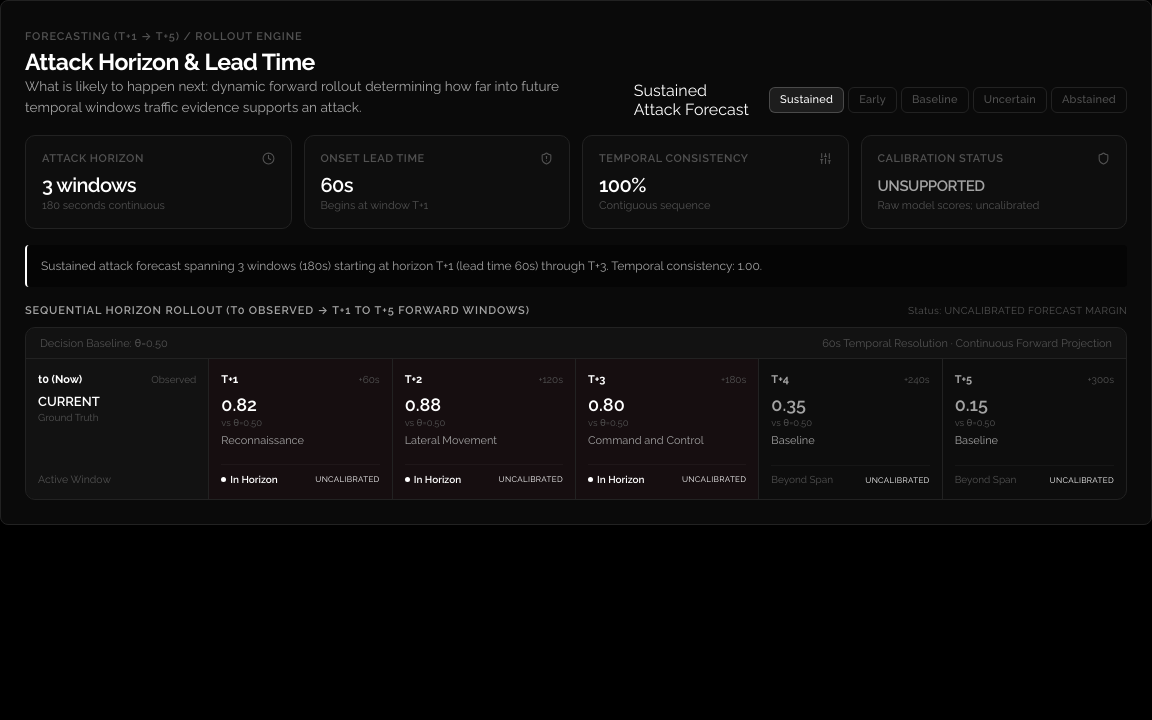
it: AttackHorizonCard › switches deterministically between all 5 states via fixture switcher
The width and height of the screenshot is (1152, 720).
# Switch to Early Signal
Click the button "Early" at (873, 100), box [848,88,897,113]
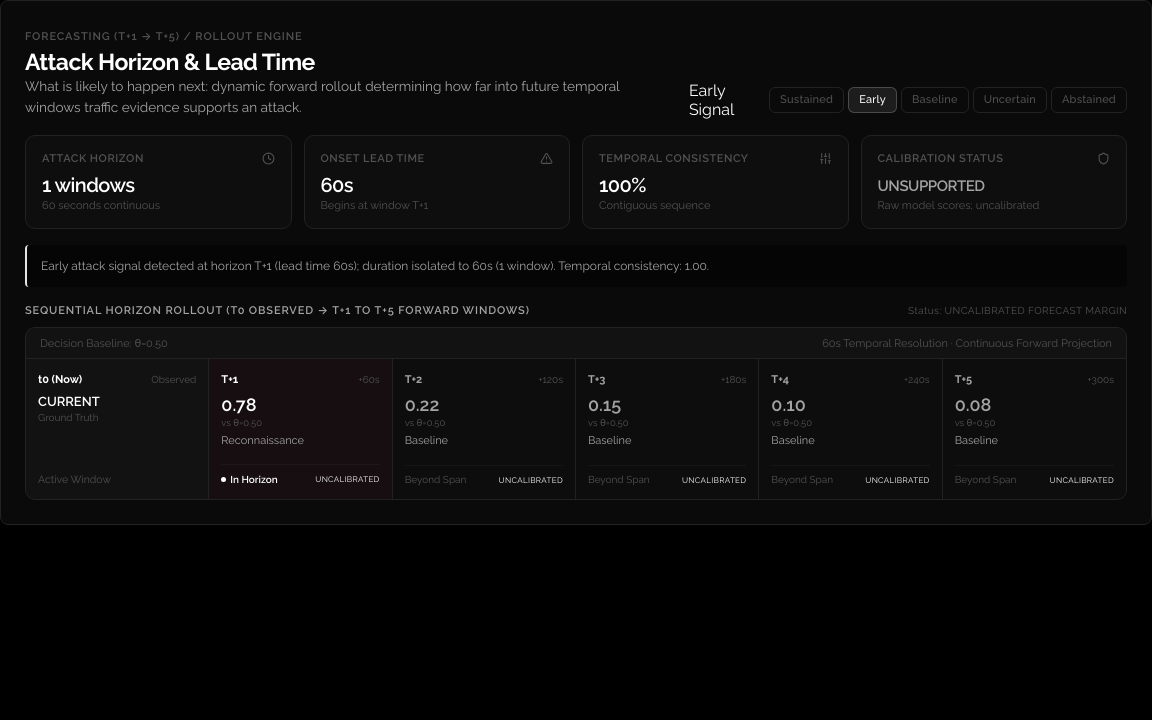
Expected: the text "Early Signal" is shown, [689,81,734,119]
Expected: the text "1 windows" is shown, [42,173,134,197]
# Switch to Baseline / No Attack
Click the button "Baseline" at (935, 100), box [901,88,969,113]
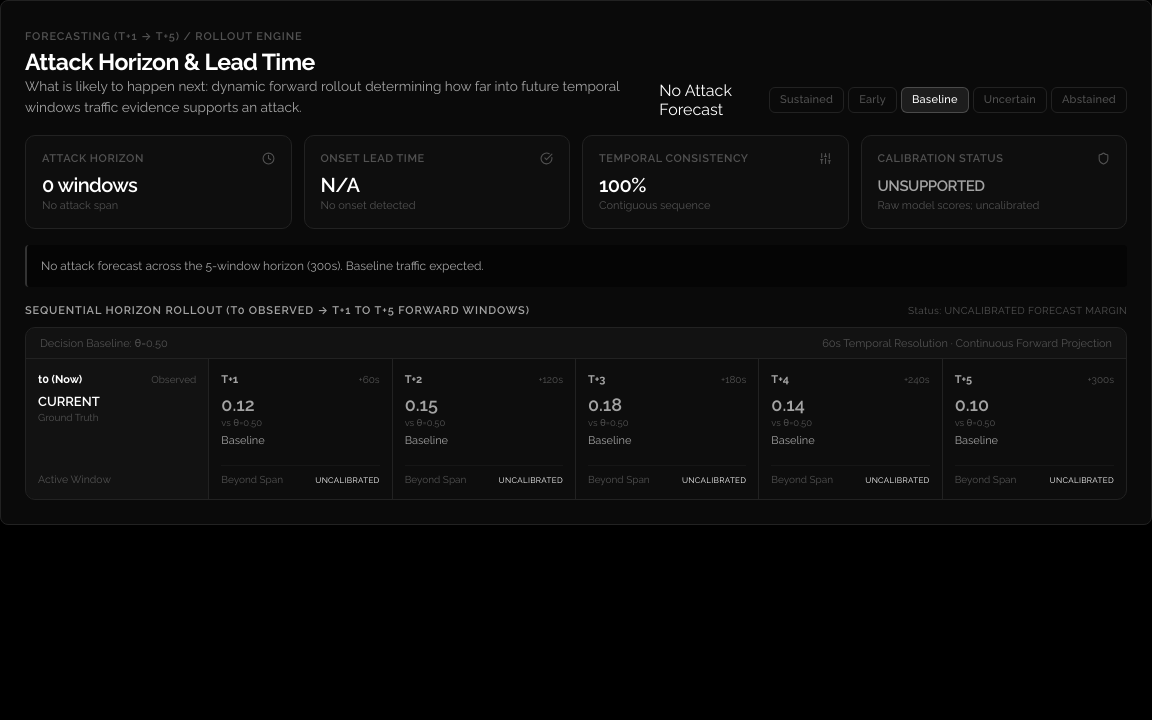
Expected: the text "No Attack Forecast" is shown, [659,81,732,119]
Expected: the text "0 windows" is shown, [42,173,137,197]
# Switch to Uncertain
Click the button "Uncertain" at (1010, 100), box [973,88,1047,113]
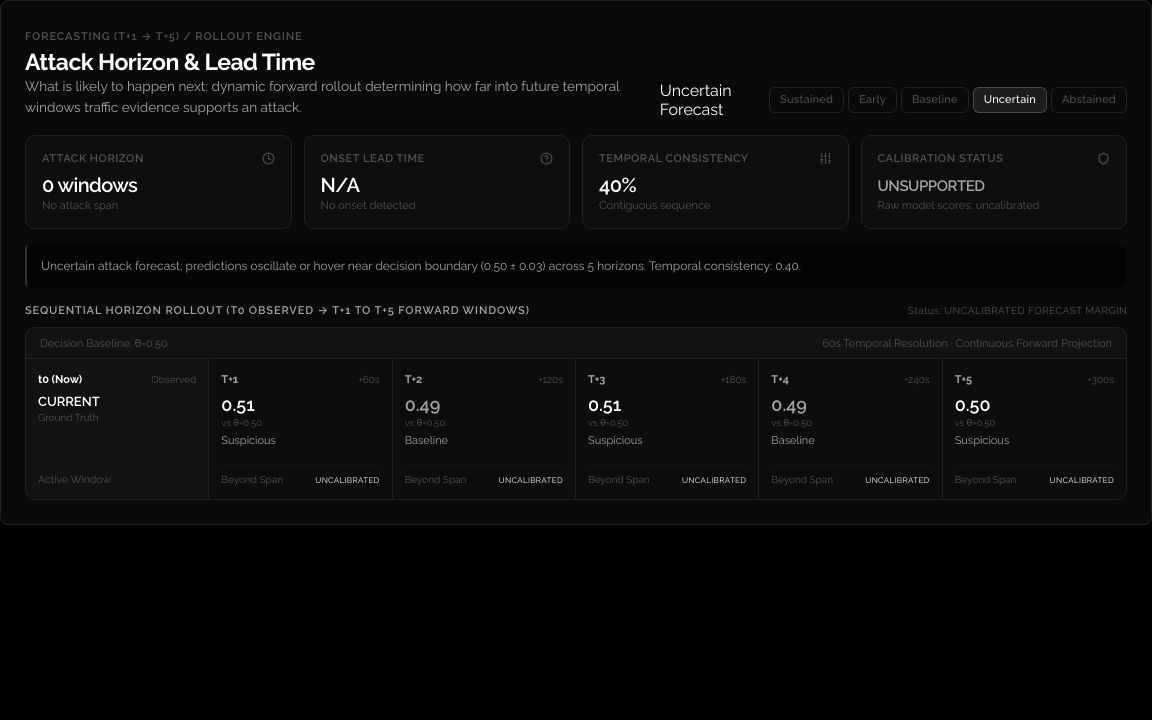
Expected: the text "Uncertain Forecast" is shown, [660,81,732,119]
# Switch to Abstained
Click the button "Abstained" at (1089, 100), box [1051,88,1127,113]
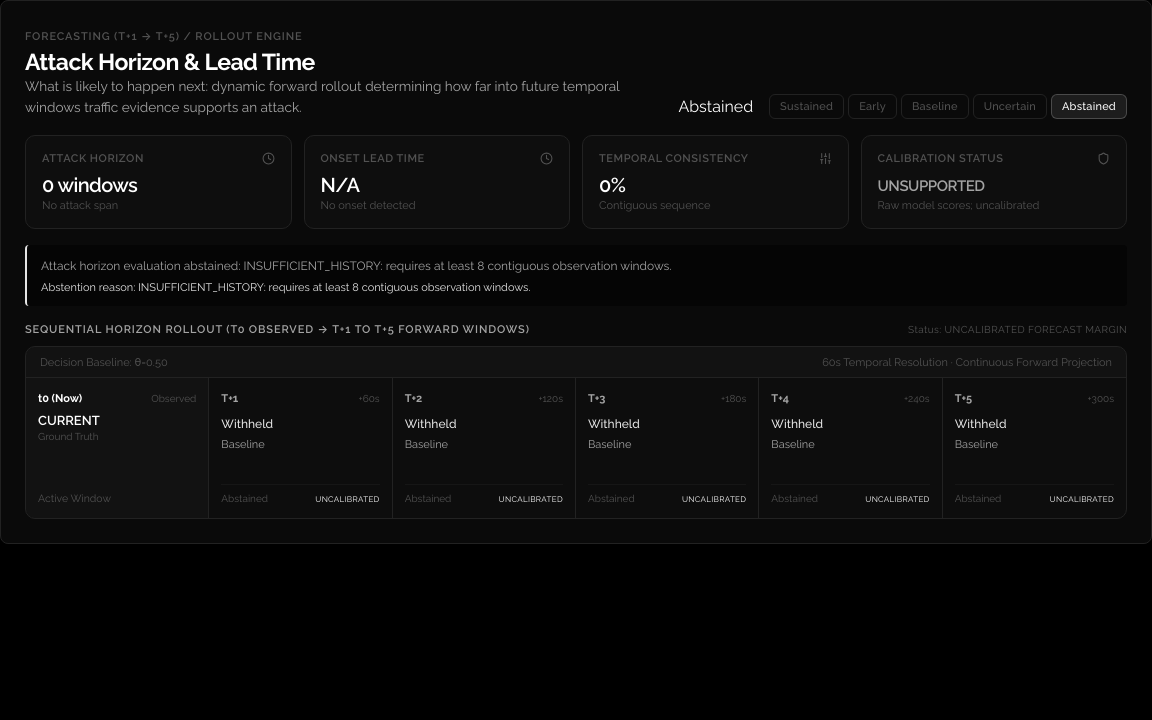
Expected: the 1st text "Abstained" is shown, [678,97,753,116]
Expected: the text "Abstention reason:" is shown, [41,281,138,294]
